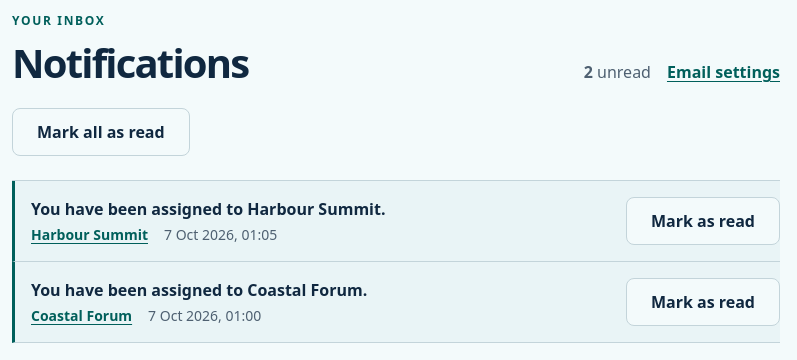
AC2 - marking notifications read › [QA-SPL-101-043] marking one of two unread notices leaves the other unread
Click the button "Mark as read" in the row of "7 Oct 2026, 01:05" at x=703, y=221, box [626,197,780,245]
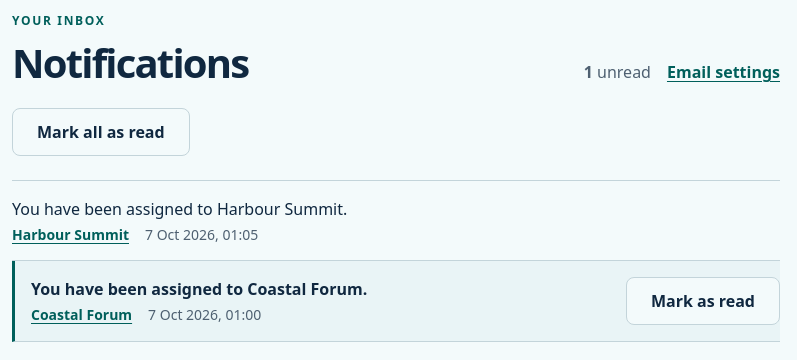
Now the message reads "1 unread", box [584,61,651,83]
Now the number of buttons "Mark as read" is 1, box [626,277,780,325]
